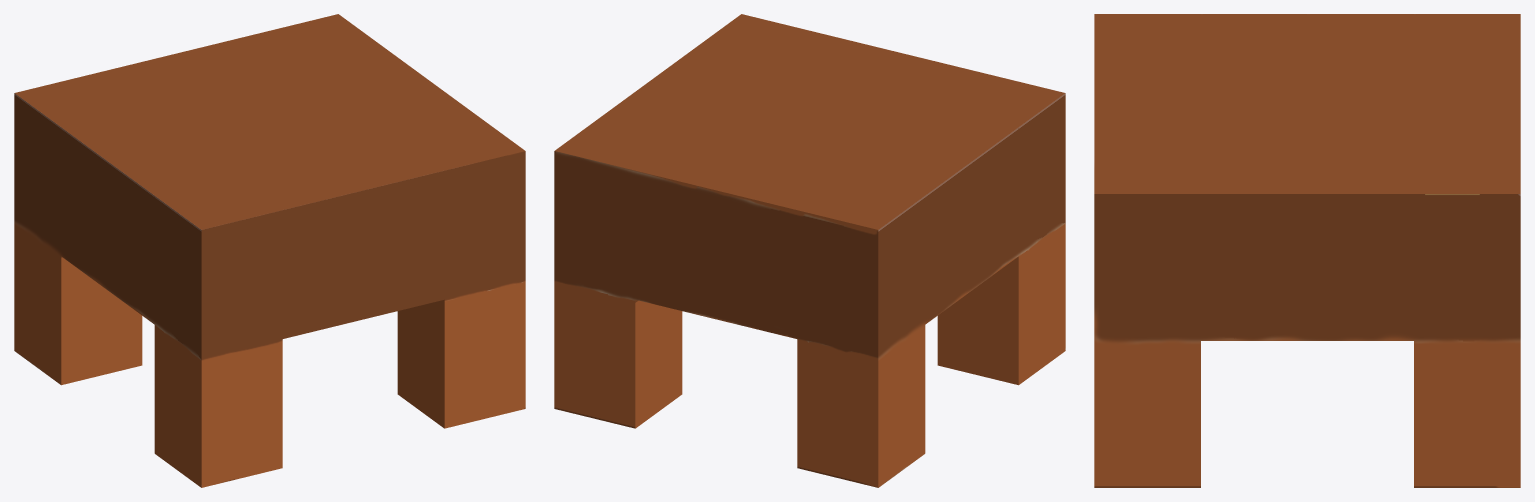
Rendered from shelf.gltf.
3 renders of one model, left to right at view 1: azimuth 30°, elevation 25°; view 2: azimuth 150°, elevation 25°; view 3: azimuth 270°, elevation 25°, orthographic. The views are drawn at different scales.
Visible parts, largest first — view 1: Cube; view 2: Cube; view 3: Cube.
Boxes of the visible parts, x1,y1,x2,y2 form: Cube: (14,14,525,487); Cube: (554,14,1065,487); Cube: (1094,14,1520,487).
Bounding box in the file's own units: 2 × 1.52 × 2.
Materials: 1 (1 with a texture image).
